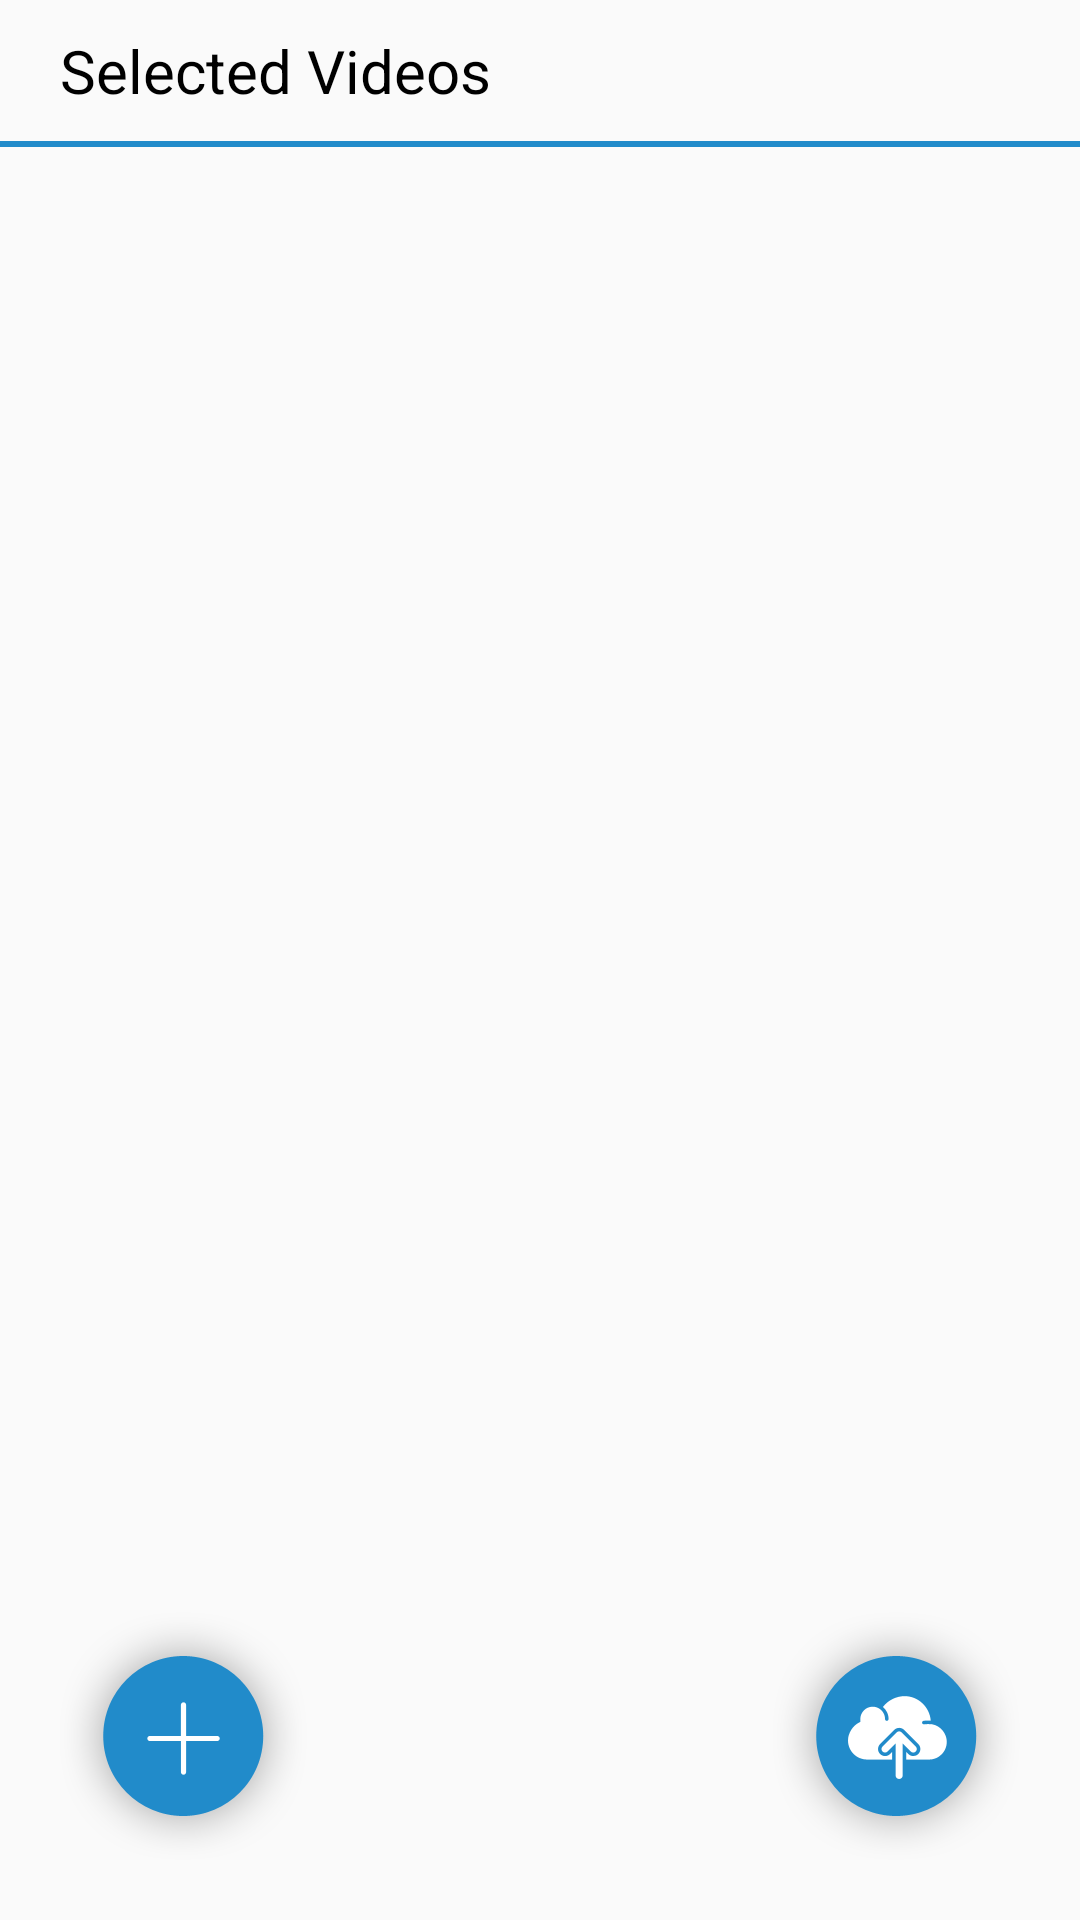

Locate icon controls on the screen. Image size 1080w x 1920h, boxes as {"x1": x1, "y1": y1, "x2": x2, "y2": y2}.
add: {"x1": 93, "y1": 1646, "x2": 274, "y2": 1826}
upload: {"x1": 806, "y1": 1646, "x2": 987, "y2": 1826}
